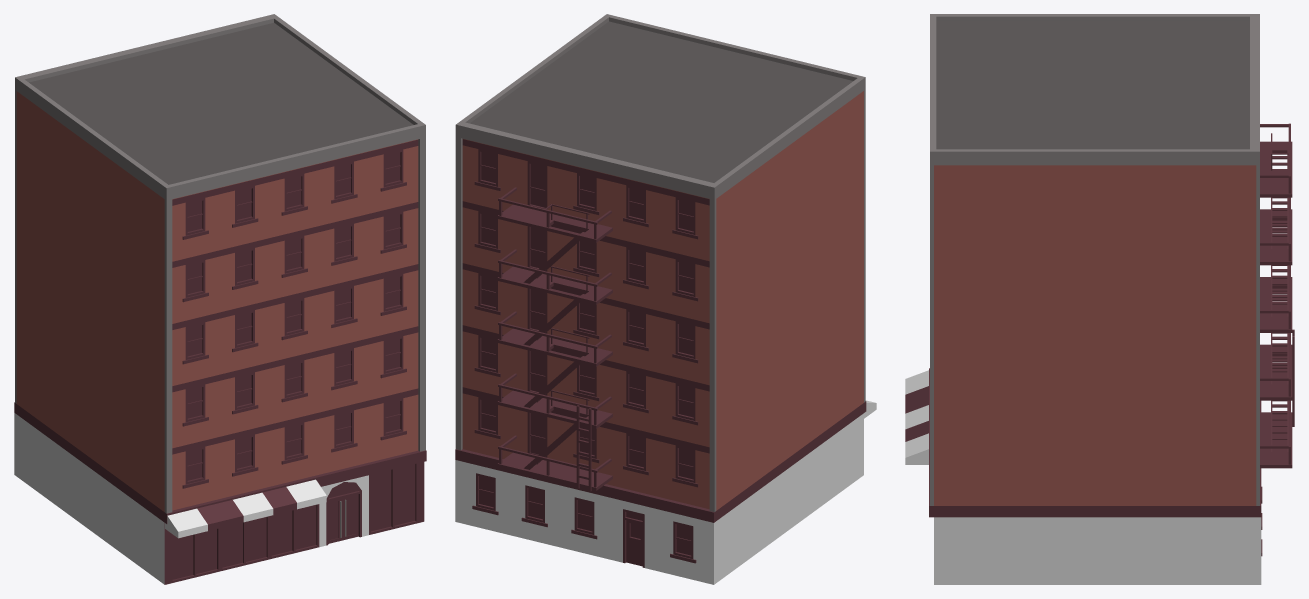
File: Building 5 étages.fbx
3 renders of one model, left to right at view 1: azimuth 30°, elevation 25°; view 2: azimuth 150°, elevation 25°; view 3: azimuth 270°, elevation 25°, orthographic. The views are drawn at different scales.
Visible parts, largest first — view 1: building-block-5floor; view 2: building-block-5floor; view 3: building-block-5floor.
Part boxes in pixels (x1,y1,x2,y2): building-block-5floor: [14, 14, 426, 584]; building-block-5floor: [455, 14, 876, 584]; building-block-5floor: [905, 14, 1294, 584].
Size of the model in its own units: 1310 by 1920 by 1565.
